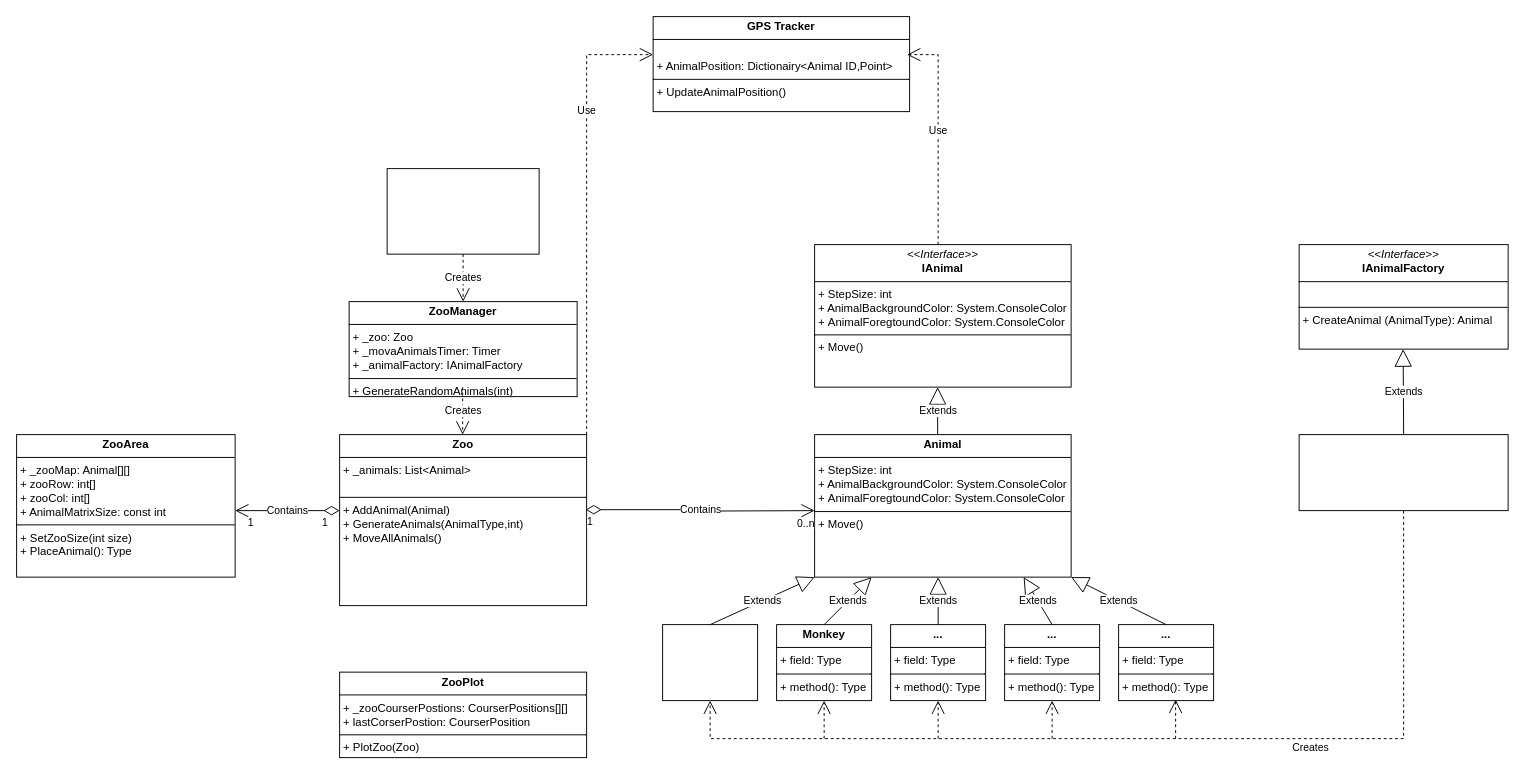
Some shapes in this 1525 by 774 pixel diagram are drawn without their labels. Here are the shapes that lost their labels. From the top down, the centre of each, then its label:
the point at 462,211: Program + field: Type + method(): Type
the point at 1403,472: AnimalFactory + CreateAnimal (AnimalType): Animal
the point at 710,662: Lion + field: Type + method(): Type
